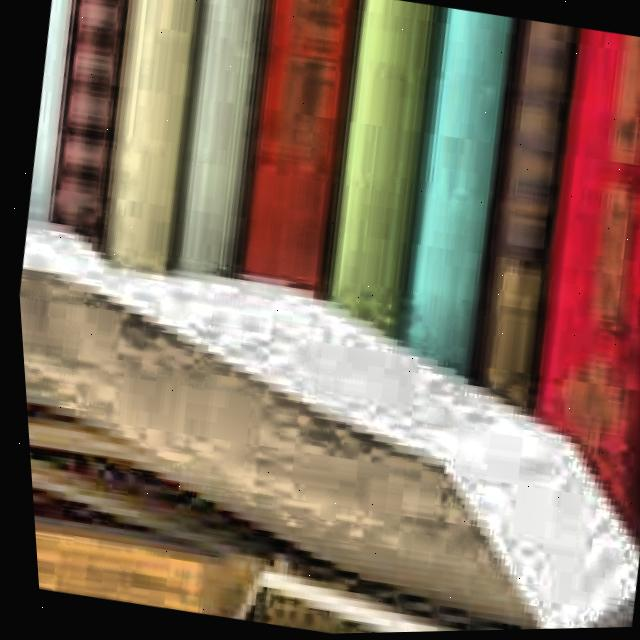paper: (11, 202, 640, 640), (13, 229, 640, 640), (494, 30, 640, 550), (376, 6, 543, 371), (456, 20, 610, 403), (307, 0, 465, 339), (229, 0, 382, 291), (158, 0, 291, 268), (92, 0, 226, 265), (26, 485, 264, 626), (11, 217, 117, 489), (36, 0, 151, 234), (14, 0, 101, 218)
